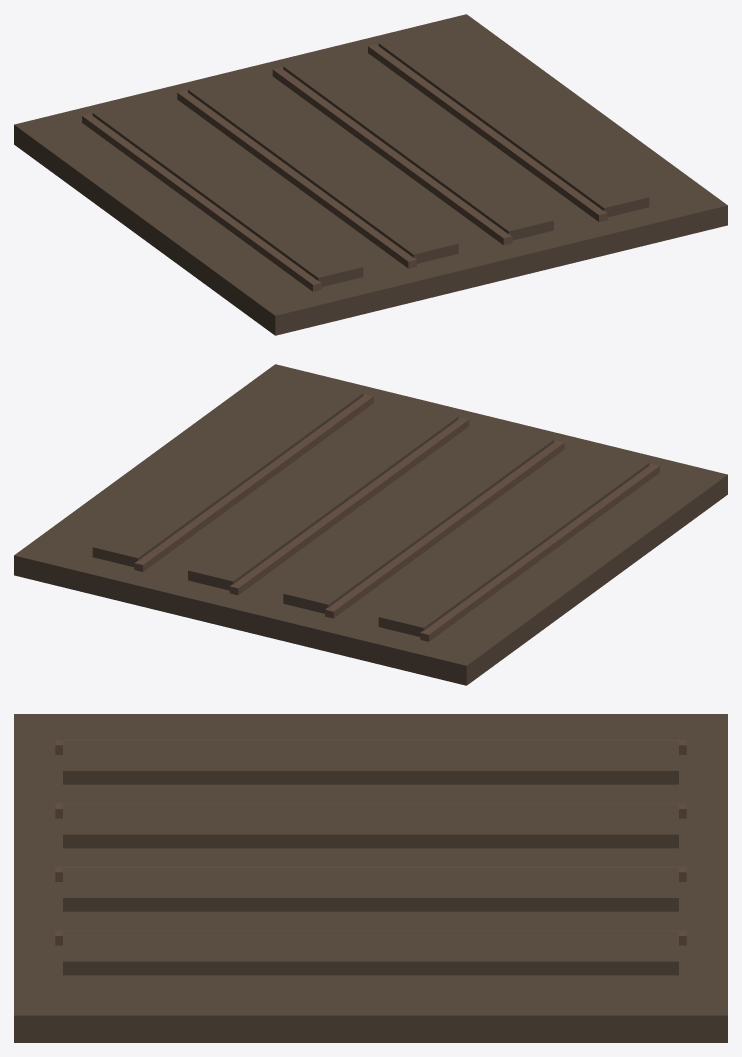
File: ground_fertile.glb
3 renders of one model, top to bottom at view 1: azimuth 30°, elevation 25°; view 2: azimuth 150°, elevation 25°; view 3: azimuth 270°, elevation 25°, orthographic. The views are drawn at different scales.
Visible parts, largest first — view 1: ground_fertile soil, ground_fertile wood; view 2: ground_fertile soil, ground_fertile wood; view 3: ground_fertile soil, ground_fertile wood.
Boxes of the visible parts, left/top/right/bottom form: ground_fertile soil: left=14, top=14, right=727, bottom=335; ground_fertile wood: left=82, top=44, right=607, bottom=291; ground_fertile soil: left=14, top=364, right=727, bottom=685; ground_fertile wood: left=134, top=394, right=659, bottom=641; ground_fertile soil: left=14, top=714, right=727, bottom=1042; ground_fertile wood: left=55, top=739, right=686, bottom=945.
Bounding box in the file's own units: 0.95 × 0.06 × 0.95.
